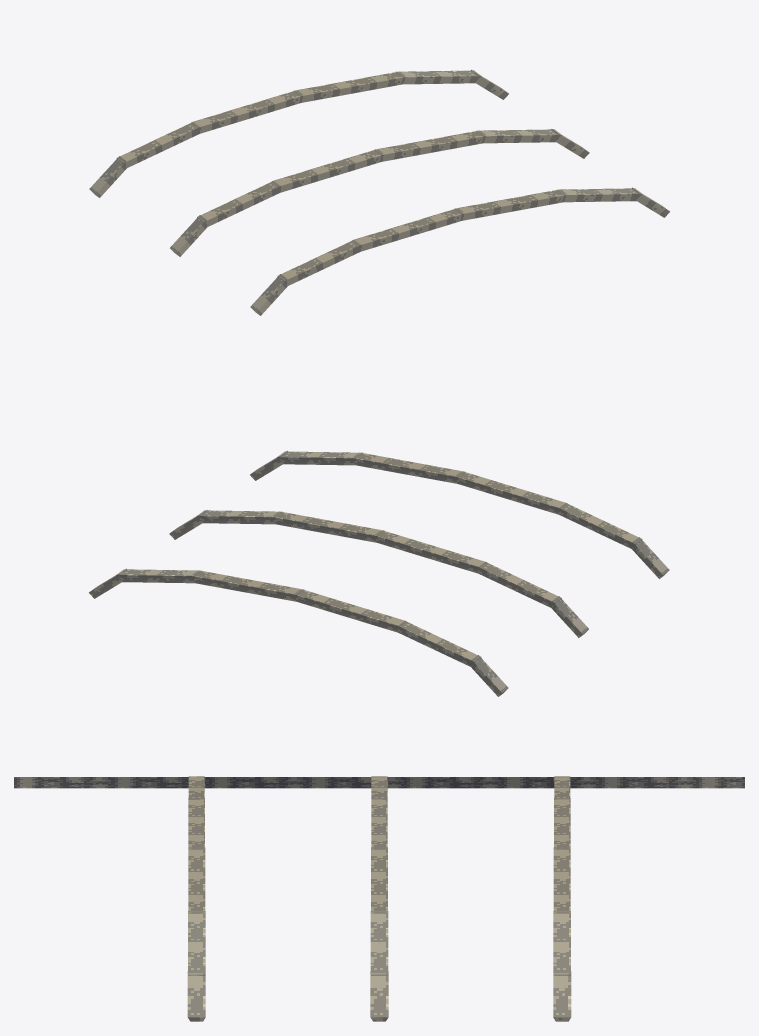
Rendered from cst.ceiling__vault.glb.
3 renders of one model, top to bottom at view 1: azimuth 30°, elevation 25°; view 2: azimuth 150°, elevation 25°; view 3: azimuth 270°, elevation 25°, orthographic. The views are drawn at different scales.
Visible parts, largest first — view 1: kit_ribs; view 2: kit_ribs; view 3: kit_ribs, kit_shell_ceiling.
Part boxes in pixels (x1=…): kit_ribs: x1=89, y1=69, x2=669, y2=315; kit_ribs: x1=89, y1=450, x2=669, y2=696; kit_ribs: x1=187, y1=776, x2=571, y2=1021; kit_shell_ceiling: x1=14, y1=777, x2=744, y2=788.
Size of the model in its own units: 11.1 by 1.39 by 15.
Materials: 2 (2 with a texture image).
